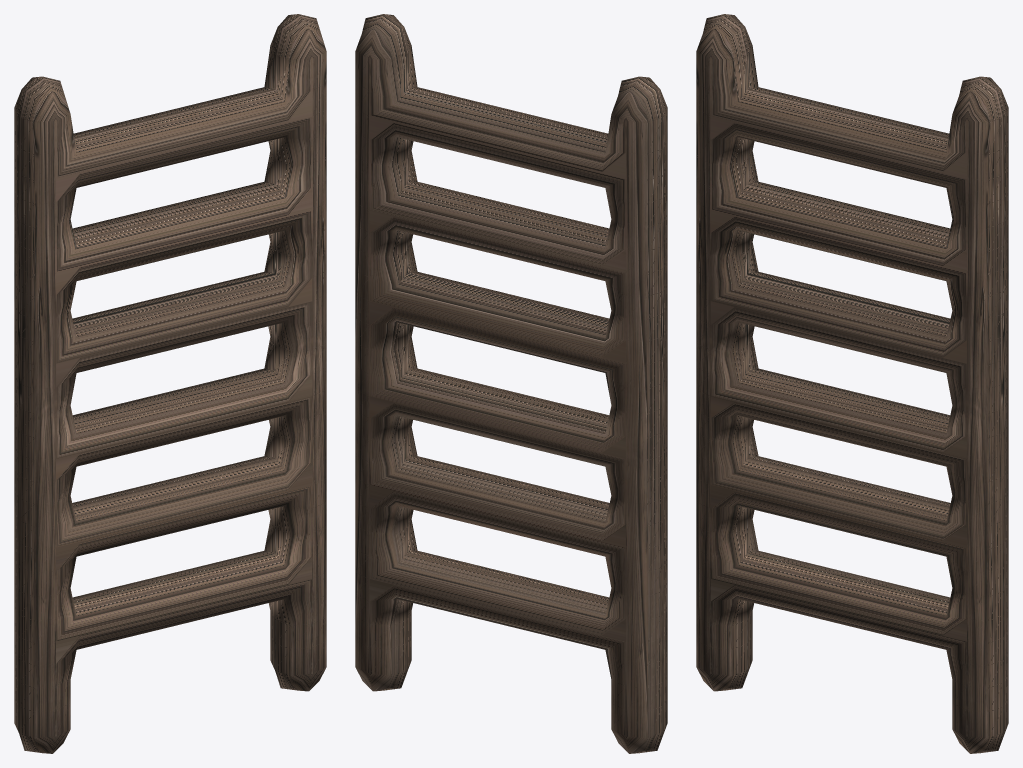
Rendered from ladder.fbx.
3 renders of one model, left to right at view 1: azimuth 30°, elevation 25°; view 2: azimuth 150°, elevation 25°; view 3: azimuth 330°, elevation 25°, orthographic.
Parts seen in each view (by area): view 1: polySurface4; view 2: polySurface4; view 3: polySurface4.
Boxes of the visible parts, left/top/right/bottom form: polySurface4: left=14, top=14, right=326, bottom=753; polySurface4: left=355, top=14, right=667, bottom=753; polySurface4: left=696, top=14, right=1008, bottom=753.
Bounding box in the file's own units: 127 × 271 × 20.
